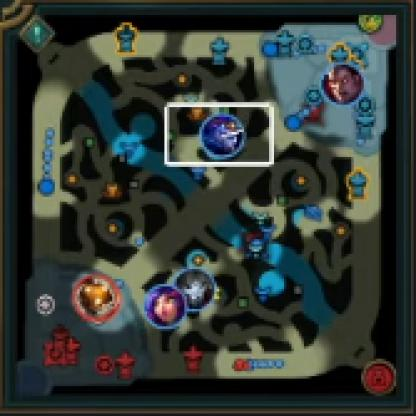Aurelion Sol: (198, 112, 247, 160)
Bard: (74, 276, 120, 321)
Darius: (322, 61, 366, 104)
Jhin: (174, 266, 217, 314)
Neeko: (143, 287, 187, 329)
